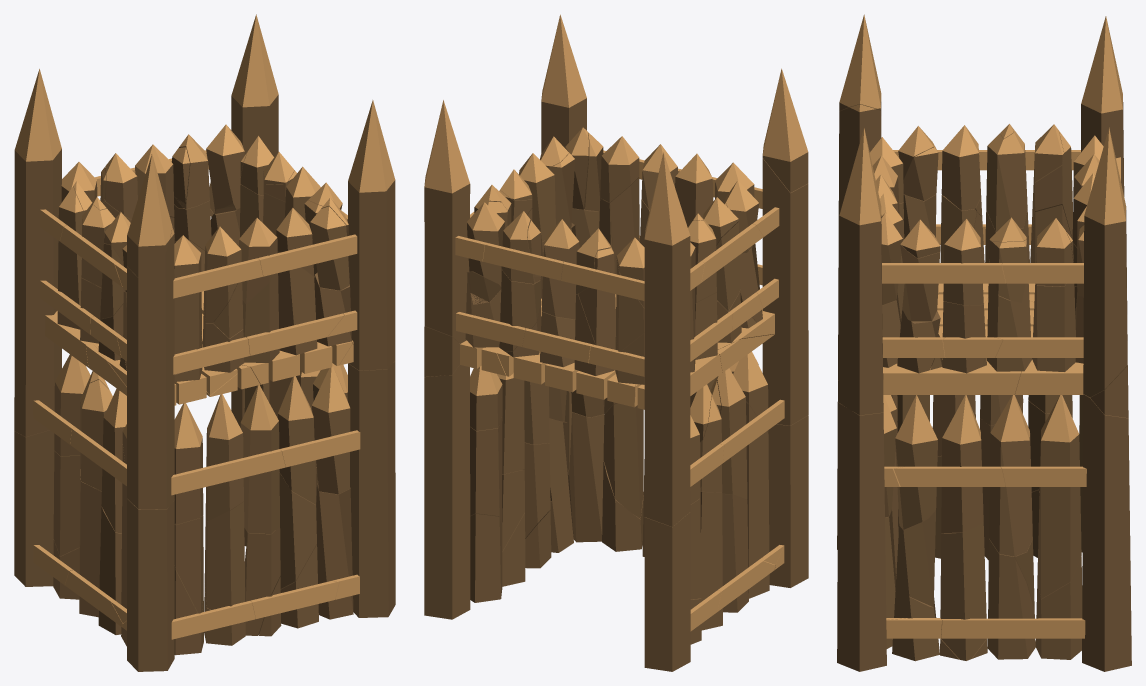
Rendered from simpleTower_fractured.FBX.
3 renders of one model, left to right at view 1: azimuth 30°, elevation 25°; view 2: azimuth 150°, elevation 25°; view 3: azimuth 270°, elevation 25°, orthographic. The views are drawn at different scales.
Parts seen in each view (by area): view 1: Cone364_cell.001, Cone365_cell.001, Cone337_cell, Cone337_cell.002, Cone365_cell, Cone364_cell, Cone348_cell.002, Cone247_cell, Cone245_cell.001, Cone249_cell.001, Cone365_cell.002, Cone249_cell (+67 smaller); view 2: Cone364_cell.001, Cone348_cell, Cone365_cell.001, Cone348_cell.002, Cone364_cell, Cone365_cell, Cone249_cell.001, Cone337_cell.002, Cone248_cell, Cone365_cell.002, Cone377_cell.002, Cone338_cell.003 (+71 smaller); view 3: Cone337_cell, Cone348_cell, Cone337_cell.002, Cone348_cell.002, Cone340_cell.003, Cone341_cell.001, Cone338_cell.003, Cone341_cell.003, Cone364_cell.001, Cone342_cell.002, Cone340_cell.002, Box071_cell.001 (+58 smaller).
Part boxes in pixels (box(x1,y1,x2,y2)): Cone364_cell.001: box(14, 69, 61, 436); Cone365_cell.001: box(127, 227, 174, 509); Cone337_cell: box(348, 361, 395, 617); Cone337_cell.002: box(348, 100, 395, 370); Cone365_cell: box(127, 498, 174, 671); Cone364_cell: box(14, 430, 54, 586); Cone348_cell.002: box(231, 14, 278, 157); Cone247_cell: box(240, 385, 279, 533); Cone245_cell.001: box(204, 501, 245, 609); Cone249_cell.001: box(316, 484, 353, 619); Cone365_cell.002: box(127, 154, 172, 277); Cone249_cell: box(312, 365, 350, 494); Cone364_cell.001: box(644, 152, 690, 526); Cone348_cell: box(424, 365, 470, 619); Cone365_cell.001: box(762, 140, 808, 425); Cone348_cell.002: box(424, 100, 470, 343); Cone364_cell: box(644, 512, 690, 671); Cone365_cell: box(768, 415, 808, 587); Cone249_cell.001: box(569, 412, 604, 542); Cone337_cell.002: box(541, 14, 586, 153); Cone248_cell: box(603, 403, 643, 518); Cone365_cell.002: box(762, 68, 808, 192); Cone377_cell.002: box(746, 402, 769, 598); Cone338_cell.003: box(470, 416, 502, 524); Cone337_cell: box(837, 402, 886, 671); Cone348_cell: box(1082, 394, 1131, 671); Cone337_cell.002: box(838, 127, 883, 415); Cone348_cell.002: box(1083, 127, 1127, 397); Cone340_cell.003: box(989, 395, 1032, 556); Cone341_cell.001: box(940, 522, 986, 660); Cone338_cell.003: box(1037, 487, 1081, 598); Cone341_cell.003: box(941, 395, 983, 533); Cone364_cell.001: box(1081, 16, 1124, 196); Cone342_cell.002: box(895, 395, 937, 529); Cone340_cell.002: box(987, 538, 1035, 659); Box071_cell.001: box(883, 359, 1021, 394).
Size of the model in its own units: 169 by 315 by 157.
